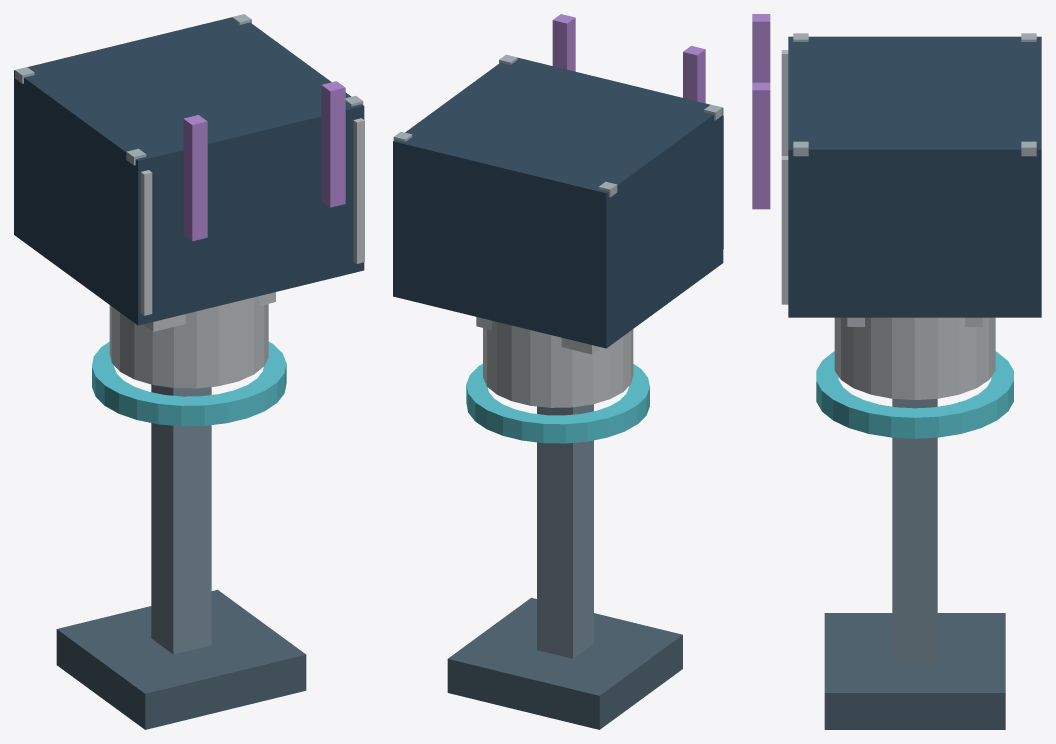
The model's file is 51_L74_PhotoresistPatternDefectCamera.glb.
3 views of the same model, side by side, from view 1: azimuth 30°, elevation 25°; view 2: azimuth 150°, elevation 25°; view 3: azimuth 270°, elevation 25° (orthographic). The views are drawn at different scales.
Parts seen in each view (by area): view 1: PhotoresistPatternDefectCamera_Node_0003, PhotoresistPatternDefectCamera_Node_0001, PhotoresistPatternDefectCamera_Node_0000, PhotoresistPatternDefectCamera_Node_0010, PhotoresistPatternDefectCamera_Node_0011, PhotoresistPatternDefectCamera_Node_0013, PhotoresistPatternDefectCamera_Node_0012, PhotoresistPatternDefectCamera_Node_0008, PhotoresistPatternDefectCamera_Node_0009, PhotoresistPatternDefectCamera_Node_0002; view 2: PhotoresistPatternDefectCamera_Node_0003, PhotoresistPatternDefectCamera_Node_0001, PhotoresistPatternDefectCamera_Node_0000, PhotoresistPatternDefectCamera_Node_0010, PhotoresistPatternDefectCamera_Node_0011, PhotoresistPatternDefectCamera_Node_0013, PhotoresistPatternDefectCamera_Node_0012; view 3: PhotoresistPatternDefectCamera_Node_0003, PhotoresistPatternDefectCamera_Node_0001, PhotoresistPatternDefectCamera_Node_0010, PhotoresistPatternDefectCamera_Node_0000, PhotoresistPatternDefectCamera_Node_0011, PhotoresistPatternDefectCamera_Node_0013, PhotoresistPatternDefectCamera_Node_0012, PhotoresistPatternDefectCamera_Node_0009, PhotoresistPatternDefectCamera_Node_0008.
Boxes of the visible parts, bbox=[...] form: PhotoresistPatternDefectCamera_Node_0003: bbox=[14, 17, 364, 325]; PhotoresistPatternDefectCamera_Node_0001: bbox=[56, 589, 306, 729]; PhotoresistPatternDefectCamera_Node_0000: bbox=[151, 384, 211, 654]; PhotoresistPatternDefectCamera_Node_0010: bbox=[109, 296, 268, 388]; PhotoresistPatternDefectCamera_Node_0011: bbox=[92, 342, 286, 426]; PhotoresistPatternDefectCamera_Node_0013: bbox=[321, 81, 345, 207]; PhotoresistPatternDefectCamera_Node_0012: bbox=[183, 115, 207, 241]; PhotoresistPatternDefectCamera_Node_0008: bbox=[140, 170, 152, 315]; PhotoresistPatternDefectCamera_Node_0009: bbox=[353, 118, 364, 263]; PhotoresistPatternDefectCamera_Node_0002: bbox=[143, 292, 275, 331]; PhotoresistPatternDefectCamera_Node_0003: bbox=[393, 57, 723, 348]; PhotoresistPatternDefectCamera_Node_0001: bbox=[447, 597, 682, 729]; PhotoresistPatternDefectCamera_Node_0000: bbox=[537, 404, 593, 658]; PhotoresistPatternDefectCamera_Node_0010: bbox=[483, 320, 633, 407]; PhotoresistPatternDefectCamera_Node_0011: bbox=[466, 364, 649, 443]; PhotoresistPatternDefectCamera_Node_0013: bbox=[552, 14, 575, 71]; PhotoresistPatternDefectCamera_Node_0012: bbox=[683, 46, 705, 103]; PhotoresistPatternDefectCamera_Node_0003: bbox=[788, 36, 1041, 317]; PhotoresistPatternDefectCamera_Node_0001: bbox=[824, 613, 1005, 729]; PhotoresistPatternDefectCamera_Node_0010: bbox=[834, 317, 995, 399]; PhotoresistPatternDefectCamera_Node_0000: bbox=[892, 399, 937, 662]; PhotoresistPatternDefectCamera_Node_0011: bbox=[816, 351, 1013, 438]; PhotoresistPatternDefectCamera_Node_0013: bbox=[752, 82, 770, 209]; PhotoresistPatternDefectCamera_Node_0012: bbox=[752, 14, 770, 82]; PhotoresistPatternDefectCamera_Node_0009: bbox=[781, 156, 788, 304]; PhotoresistPatternDefectCamera_Node_0008: bbox=[781, 50, 788, 155].
Size of the model in its own units: 0.5984 by 1.56 by 0.64.
